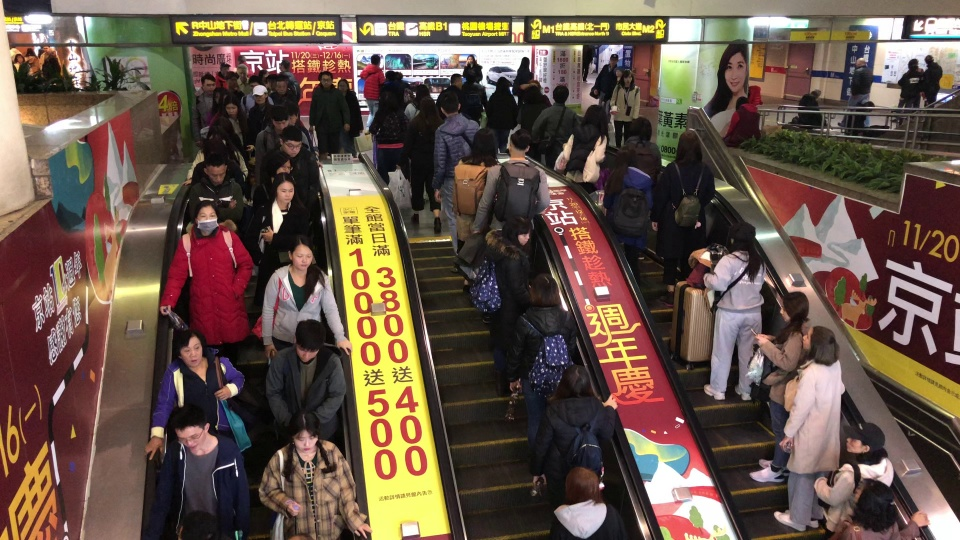person_head: (282, 409, 337, 481), (360, 53, 384, 135), (170, 407, 210, 456), (852, 477, 894, 518), (844, 421, 887, 459), (566, 463, 601, 509), (171, 327, 207, 366), (291, 320, 323, 363), (801, 326, 843, 358), (777, 288, 808, 329), (504, 213, 533, 252), (560, 362, 588, 401), (285, 235, 313, 273), (729, 221, 760, 253), (202, 149, 227, 188), (472, 128, 497, 166), (530, 274, 558, 307), (195, 198, 218, 234), (677, 128, 704, 158), (270, 172, 295, 203), (587, 104, 606, 144), (224, 94, 245, 126), (279, 127, 301, 156), (440, 90, 461, 120), (271, 151, 293, 179), (632, 115, 651, 146), (509, 132, 530, 160), (270, 105, 289, 131), (419, 96, 436, 123), (415, 83, 430, 110), (380, 90, 397, 113), (284, 101, 299, 126), (208, 126, 227, 145), (553, 85, 570, 105), (617, 69, 635, 86), (515, 56, 532, 74), (253, 85, 268, 105), (202, 75, 217, 94), (525, 80, 536, 105), (495, 76, 509, 95), (735, 95, 751, 111), (213, 86, 225, 106), (276, 74, 288, 94), (237, 64, 249, 83), (337, 76, 349, 94), (219, 88, 230, 107), (384, 69, 396, 86), (321, 71, 333, 88), (450, 73, 462, 89), (227, 76, 239, 92), (466, 69, 478, 84), (266, 73, 276, 91), (863, 100, 876, 113), (370, 54, 382, 68), (248, 74, 258, 90), (811, 86, 822, 100), (13, 53, 24, 66), (280, 58, 290, 72), (258, 69, 267, 83), (907, 57, 917, 69), (219, 63, 229, 75), (609, 52, 618, 65), (26, 46, 36, 57), (926, 53, 935, 65), (280, 71, 289, 83), (855, 57, 865, 67), (395, 70, 404, 81), (615, 65, 624, 75), (467, 54, 475, 65), (50, 49, 58, 59), (238, 55, 246, 63), (38, 48, 45, 57), (42, 46, 49, 55)
person_vbox: (158, 195, 254, 372), (144, 329, 245, 488), (513, 270, 585, 491), (774, 329, 851, 534), (257, 410, 373, 540), (256, 232, 353, 379), (470, 128, 551, 300), (749, 288, 816, 481), (162, 409, 253, 540), (809, 416, 900, 540), (538, 357, 622, 490), (705, 220, 766, 402), (263, 319, 347, 448), (653, 129, 716, 297), (250, 172, 318, 326), (493, 209, 546, 402), (608, 116, 662, 281), (430, 93, 481, 257), (449, 128, 497, 274), (833, 477, 930, 540), (406, 96, 445, 235), (544, 459, 608, 540), (255, 104, 311, 188), (258, 126, 320, 201), (181, 123, 250, 189), (188, 148, 243, 229), (563, 104, 608, 200), (252, 148, 310, 220), (530, 85, 578, 167), (313, 72, 351, 169), (370, 89, 406, 184), (188, 138, 247, 188), (889, 55, 924, 132), (611, 67, 642, 151), (837, 57, 872, 131), (204, 93, 245, 149), (335, 76, 364, 153), (489, 76, 517, 152), (284, 102, 317, 164), (244, 86, 274, 152), (593, 52, 623, 116), (724, 96, 758, 148), (796, 86, 832, 135), (240, 72, 274, 122), (519, 80, 551, 132), (190, 74, 212, 148), (896, 56, 922, 115), (843, 99, 880, 140), (436, 73, 468, 120), (463, 71, 488, 123), (512, 54, 536, 106), (922, 52, 943, 111), (206, 89, 236, 130), (206, 116, 244, 148), (406, 82, 431, 122), (269, 73, 300, 105), (278, 54, 301, 97), (38, 42, 61, 78), (380, 71, 400, 110), (462, 52, 484, 84), (11, 54, 34, 81), (41, 50, 61, 79), (234, 62, 252, 94), (583, 46, 597, 86), (289, 99, 307, 128), (213, 60, 231, 88), (396, 69, 411, 101), (23, 47, 39, 76), (195, 71, 212, 96), (309, 71, 323, 100), (211, 85, 223, 115), (266, 71, 279, 96), (256, 64, 269, 87), (613, 65, 625, 83), (9, 44, 24, 58)
